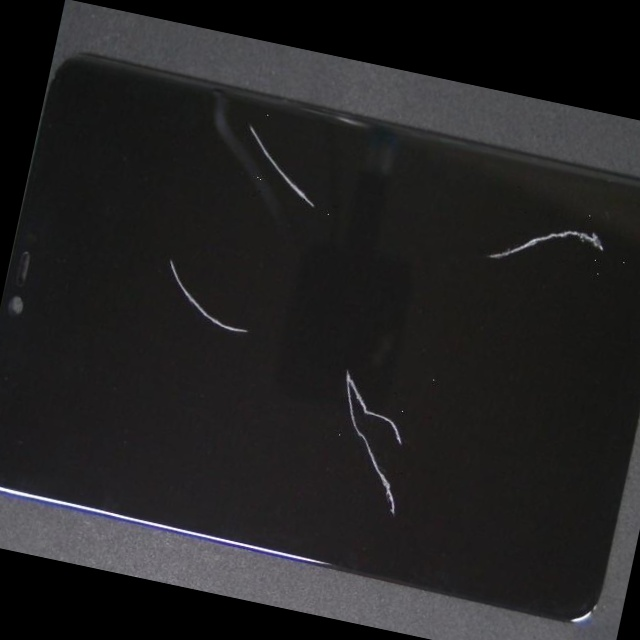scratch: (202, 245, 607, 605), (242, 137, 640, 405), (68, 48, 407, 272), (122, 176, 315, 415)
